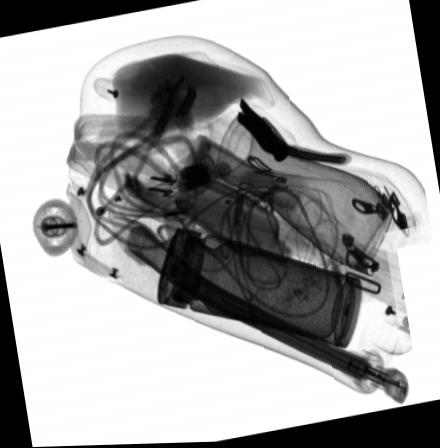Hammer: (235, 96, 352, 167)
